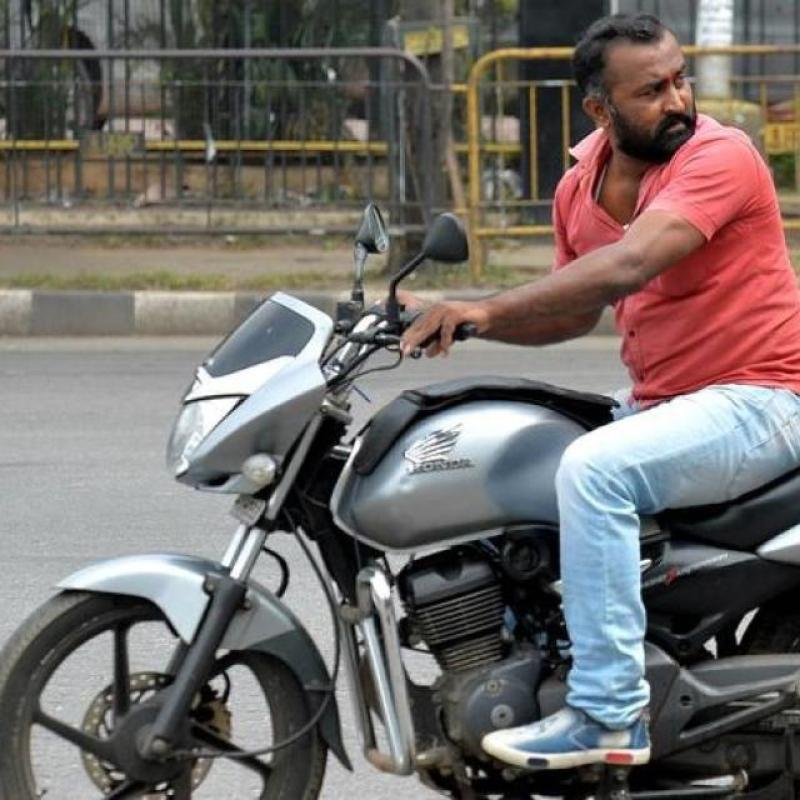nohelmet: (550, 28, 726, 158)
